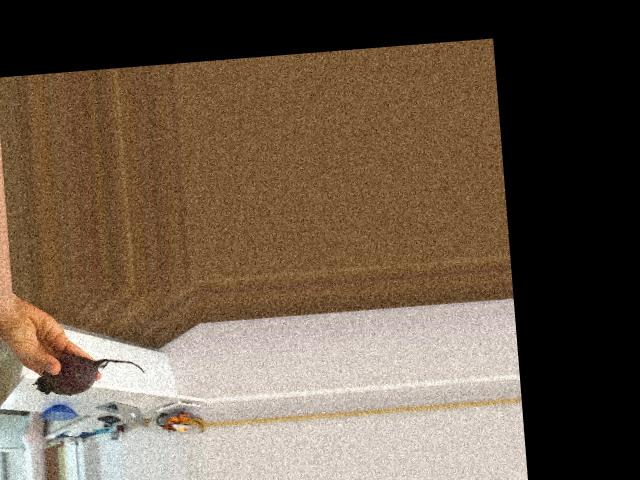beet: (31, 349, 146, 397)
